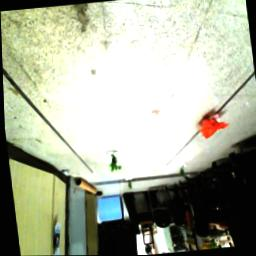herb: (106, 153, 123, 175), (177, 166, 187, 179)
wild: (196, 113, 232, 141)
